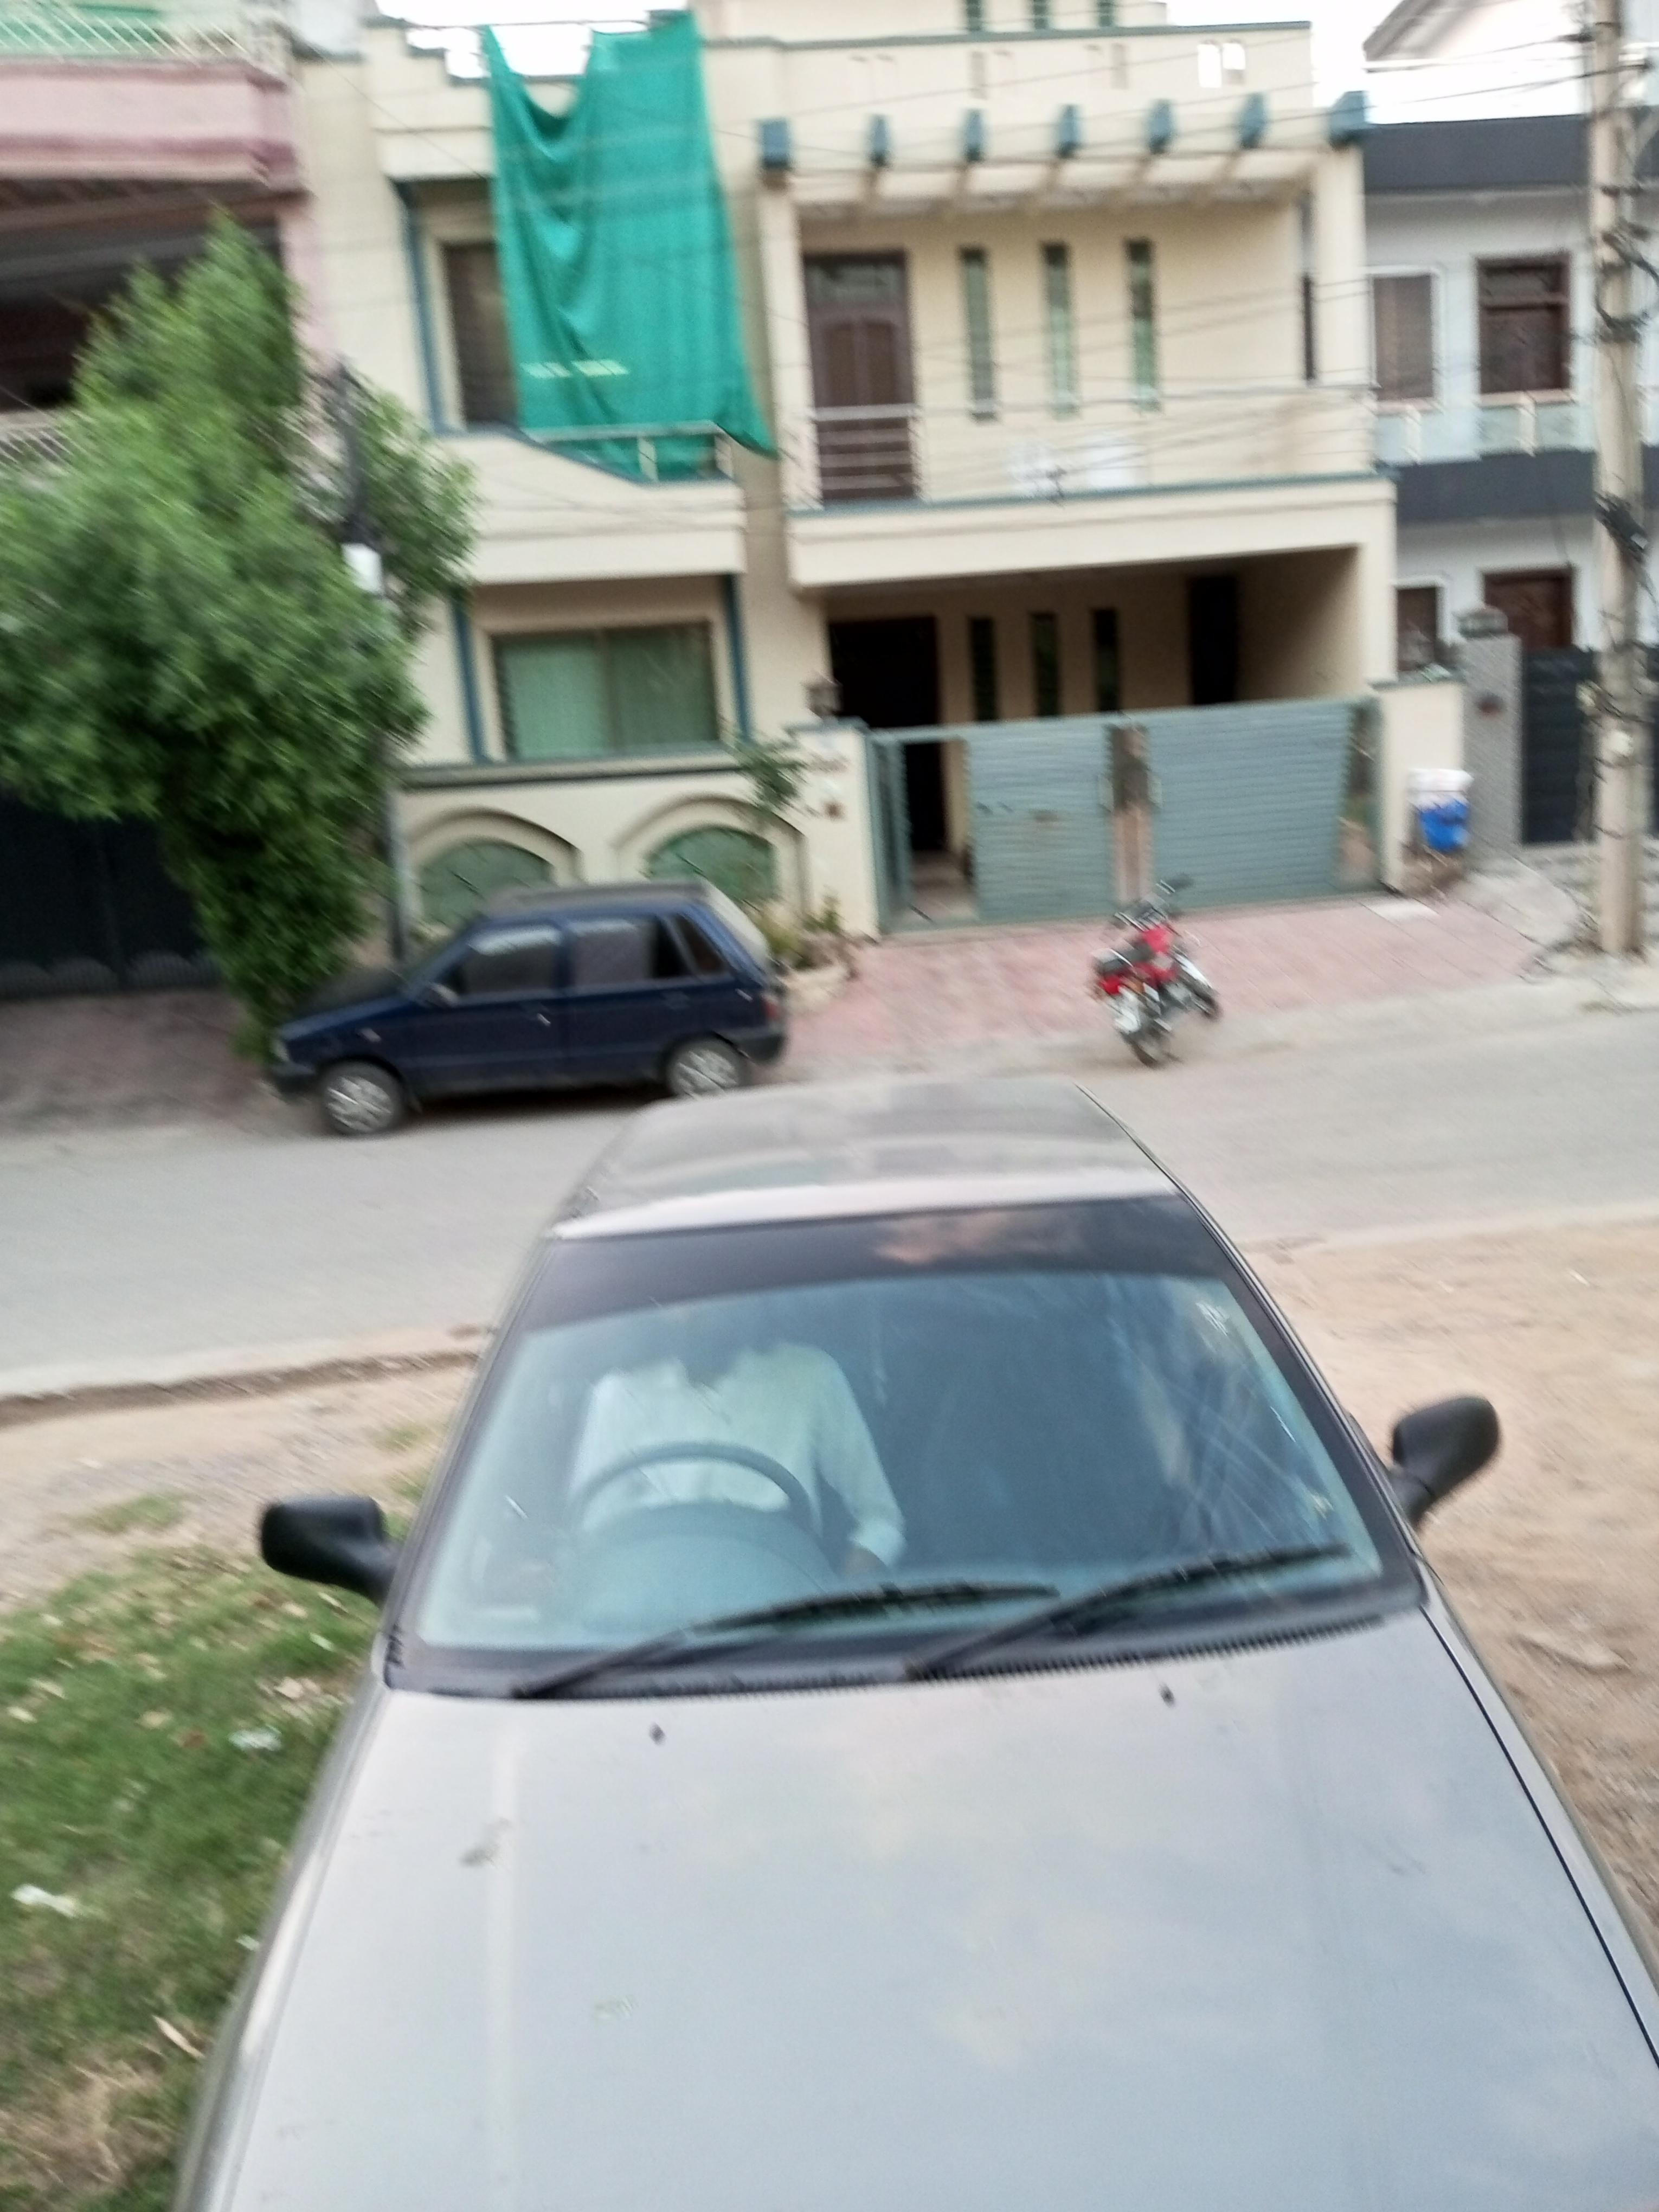windshield: (392, 1160, 1438, 1702)
